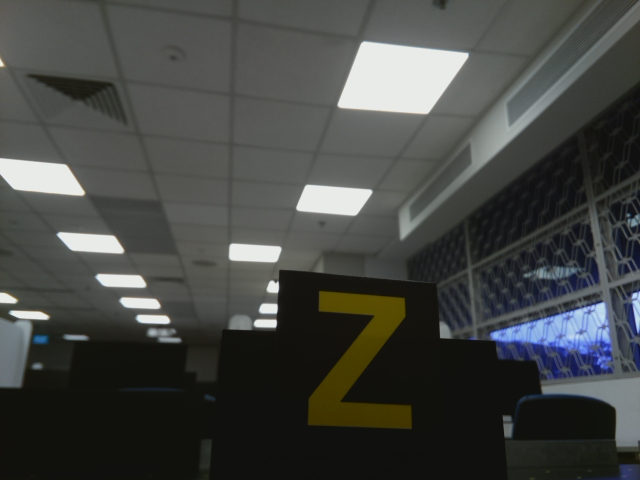z: (308, 284, 418, 437)
